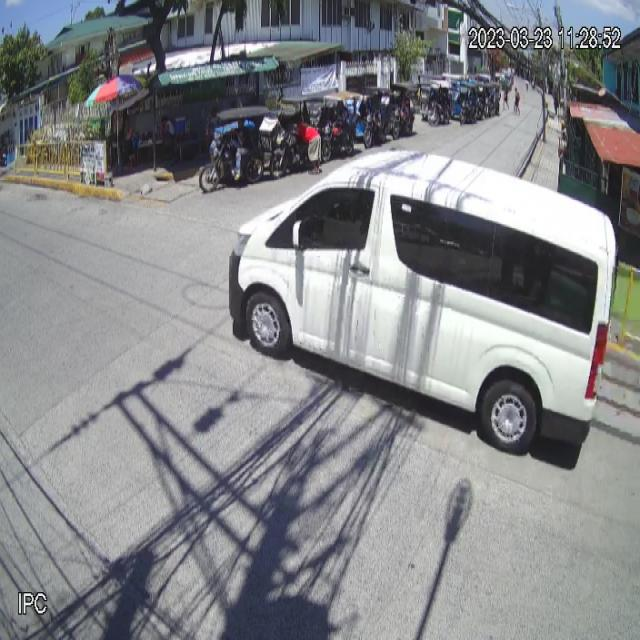Van: (226, 148, 619, 454)
